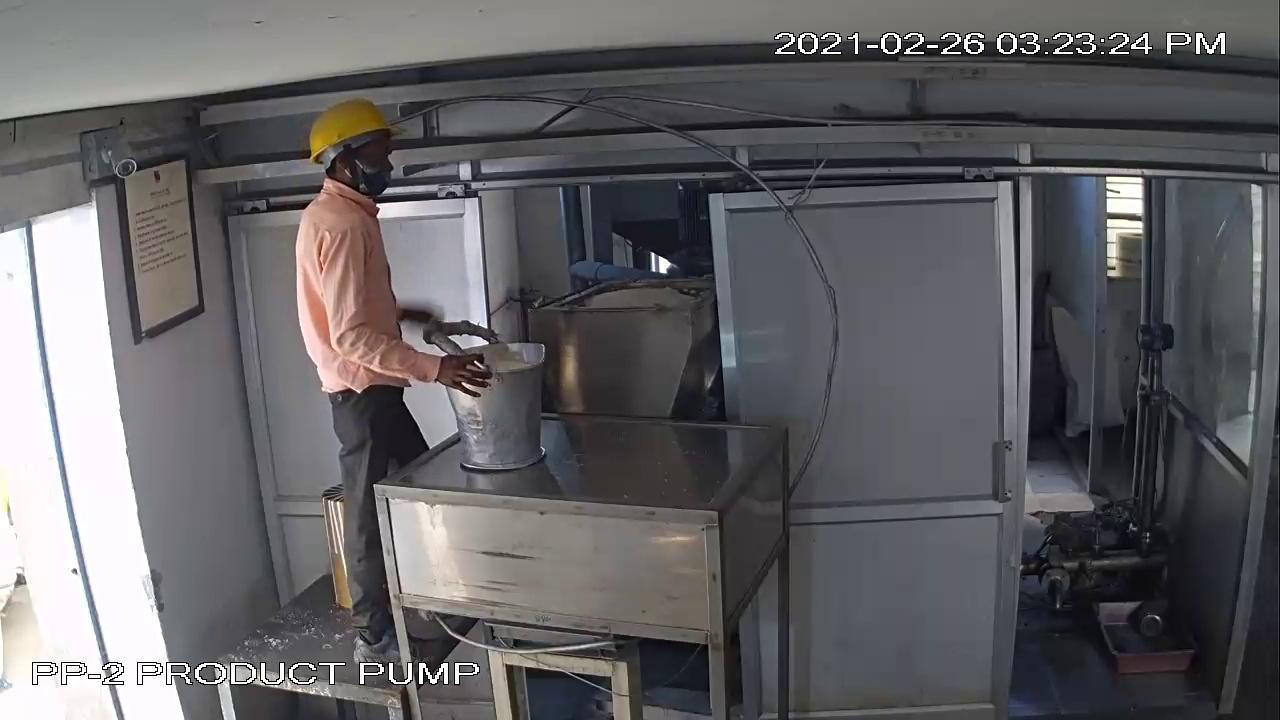helmet: (300, 92, 405, 166)
